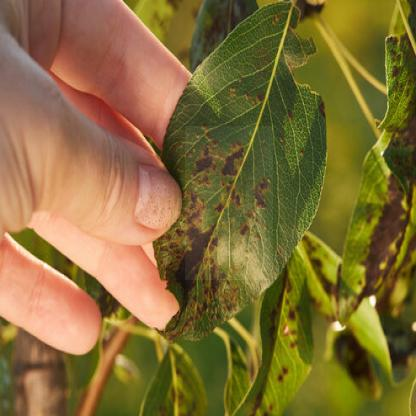black-spot: (185, 126, 273, 280)
